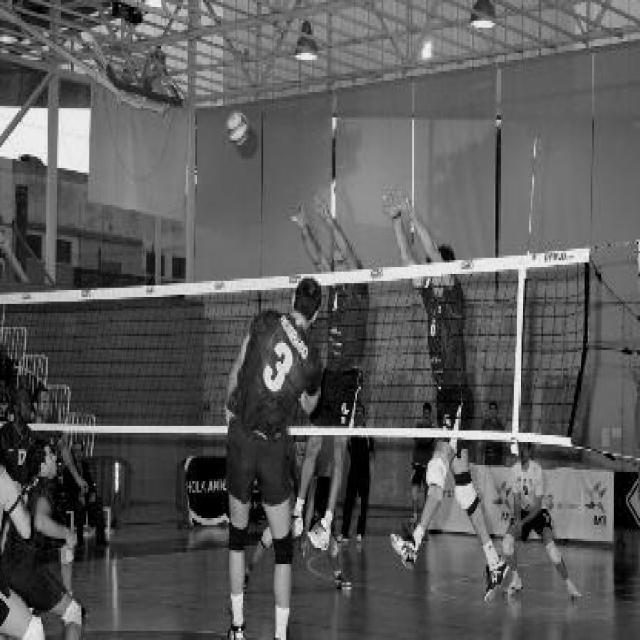volleyball: (225, 111, 250, 149)
